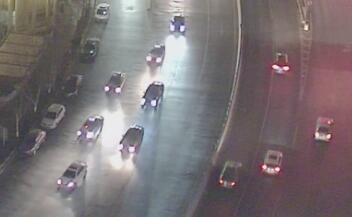car: (56, 160, 89, 193), (117, 125, 145, 155), (76, 114, 104, 144), (217, 158, 242, 189), (139, 79, 165, 108), (39, 104, 66, 130), (19, 128, 45, 155), (260, 148, 284, 176), (60, 71, 81, 98), (314, 115, 334, 142), (103, 70, 125, 94), (270, 51, 292, 74), (144, 42, 168, 63), (167, 12, 187, 34), (80, 36, 98, 60), (93, 3, 110, 21)
